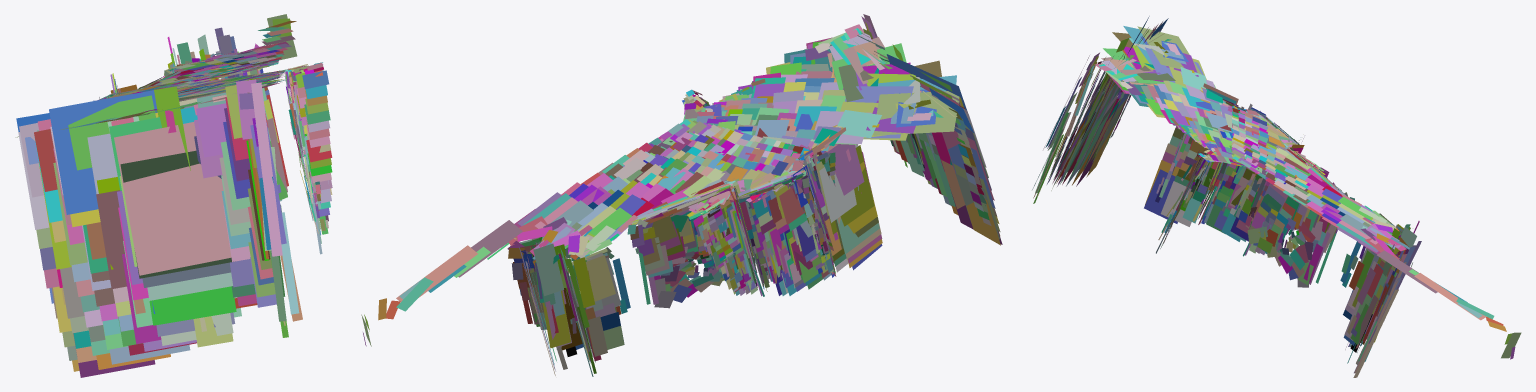
Rendered from planarSplat_rawPrims_normalized_colorPrim.glb.
The picture shows the model from 3 angles, left to right: view 1: azimuth 30°, elevation 25°; view 2: azimuth 150°, elevation 25°; view 3: azimuth 270°, elevation 25°; orthographic projection. The views are drawn at different scales.
Parts seen in each view (by area): view 1: planarSplat_rawPrims_normalized_colorPrim.ply; view 2: planarSplat_rawPrims_normalized_colorPrim.ply; view 3: planarSplat_rawPrims_normalized_colorPrim.ply.
Part boxes in pixels (<box>): planarSplat_rawPrims_normalized_colorPrim.ply: <box>15,14,332,377</box>; planarSplat_rawPrims_normalized_colorPrim.ply: <box>361,14,1002,376</box>; planarSplat_rawPrims_normalized_colorPrim.ply: <box>1032,16,1521,377</box>.
Bounding box in the file's own units: 5.72 × 3.85 × 6.71.
